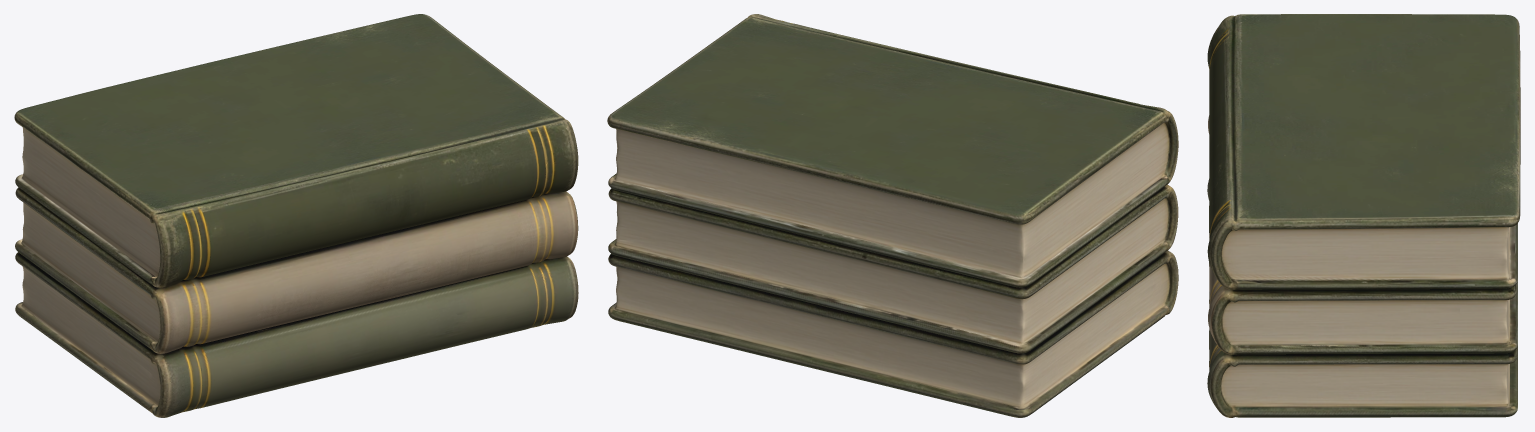
File: books.glb
The picture shows the model from 3 angles, left to right: view 1: azimuth 30°, elevation 25°; view 2: azimuth 150°, elevation 25°; view 3: azimuth 270°, elevation 25°; orthographic projection.
Visible parts, largest first — view 1: node_0; view 2: node_0; view 3: node_0.
Boxes of the visible parts, x1=… form: node_0: x1=14, y1=14, x2=578, y2=417; node_0: x1=607, y1=14, x2=1178, y2=417; node_0: x1=1207, y1=14, x2=1520, y2=417.
Size of the model in its own units: 0.9617 by 0.4524 by 0.6247.
1 material, 1 textured.
